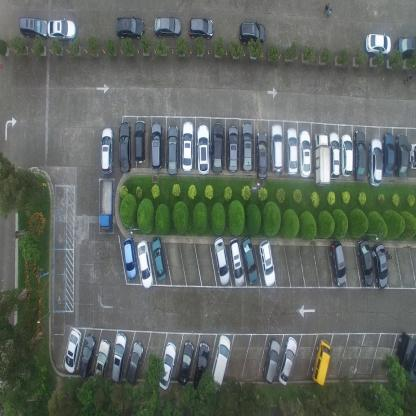car: (390, 332, 415, 386), (210, 332, 231, 392), (276, 335, 298, 385), (310, 339, 332, 388), (192, 340, 210, 393), (110, 330, 127, 385), (158, 340, 177, 389), (136, 238, 154, 289), (356, 237, 375, 285), (262, 336, 281, 384), (98, 176, 114, 232), (241, 235, 259, 284), (92, 337, 110, 386), (78, 332, 96, 380), (64, 326, 82, 374), (228, 236, 245, 286), (314, 131, 330, 184), (238, 19, 268, 47), (259, 238, 276, 287), (125, 340, 143, 386), (213, 236, 230, 284), (176, 339, 193, 387), (18, 14, 48, 41), (329, 240, 346, 286), (367, 135, 382, 187), (46, 17, 78, 41), (115, 14, 144, 40), (152, 13, 182, 38), (372, 244, 388, 290), (180, 121, 194, 173), (150, 236, 166, 281), (118, 120, 131, 175), (394, 132, 409, 179), (366, 30, 392, 57), (100, 124, 114, 174), (122, 236, 138, 279), (298, 129, 312, 178), (270, 122, 283, 174), (211, 122, 224, 174), (196, 124, 209, 176), (150, 120, 163, 172), (187, 15, 215, 39), (167, 122, 179, 176), (227, 124, 240, 173), (354, 129, 366, 182), (241, 121, 253, 174), (133, 118, 147, 163), (285, 126, 298, 174), (256, 130, 268, 180), (328, 131, 340, 180), (382, 130, 394, 178), (340, 133, 353, 177), (394, 36, 416, 60), (410, 141, 416, 170)
